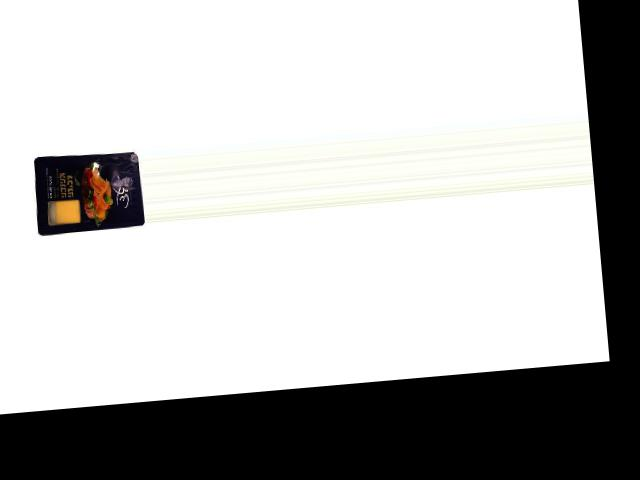cheese: (31, 145, 146, 235)
